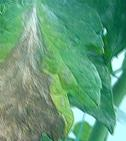Tomato mold leaf: (0, 4, 104, 141)
